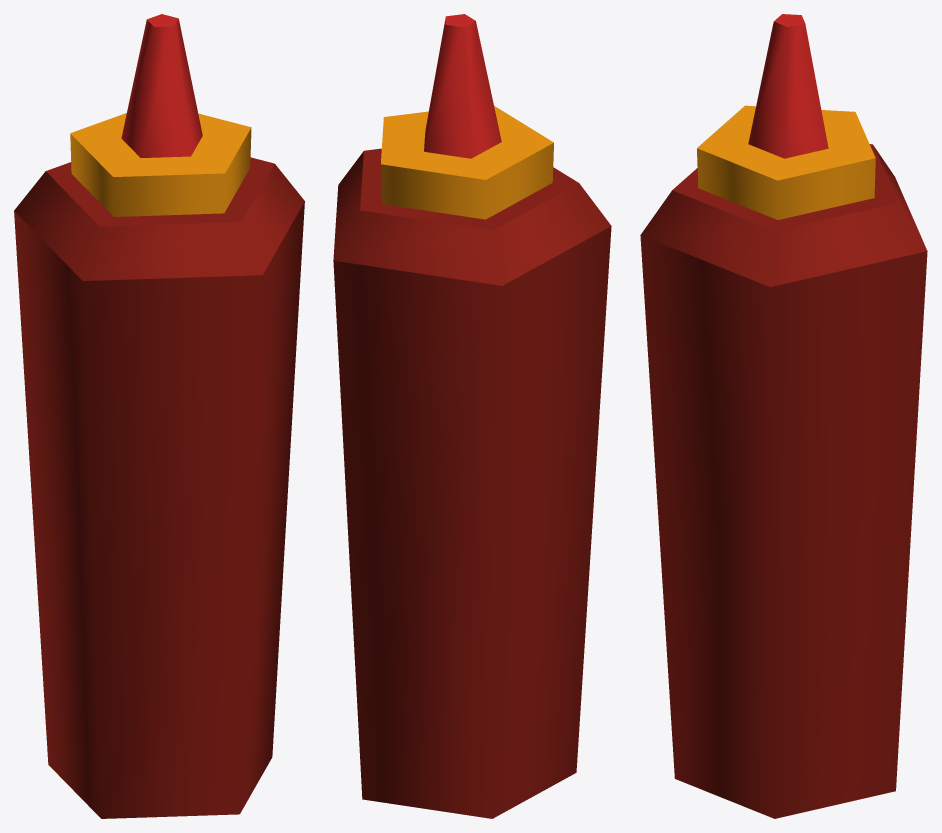
Rendered from Ketchap.fbx.
3 renders of one model, left to right at view 1: azimuth 30°, elevation 25°; view 2: azimuth 150°, elevation 25°; view 3: azimuth 270°, elevation 25°, orthographic.
Visible parts, largest first — view 1: Ketchap; view 2: Ketchap; view 3: Ketchap.
Boxes of the visible parts, <box> form: Ketchap: <box>14,14,304,818</box>; Ketchap: <box>333,14,611,818</box>; Ketchap: <box>640,14,927,818</box>.
Bounding box in the file's own units: 8.18 × 23.75 × 8.24.
